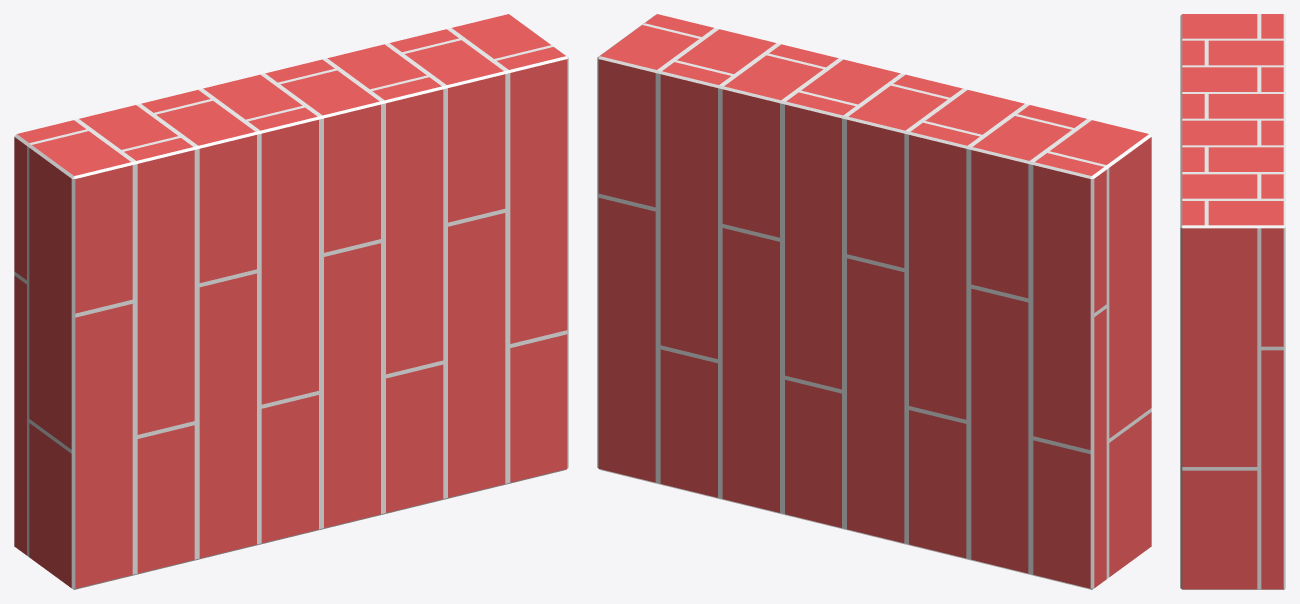
The model's file is Firewall.obj.
3 views of the same model, side by side, from view 1: azimuth 30°, elevation 25°; view 2: azimuth 150°, elevation 25°; view 3: azimuth 270°, elevation 25° (orthographic). The views are drawn at different scales.
Parts seen in each view (by area): view 1: Firewall; view 2: Firewall; view 3: Firewall.
Boxes of the visible parts, left/top/right/bottom form: Firewall: left=14, top=14, right=568, bottom=589; Firewall: left=597, top=14, right=1151, bottom=589; Firewall: left=1180, top=14, right=1285, bottom=589.
Size of the model in its own units: 1.01 by 0.8025 by 0.2105.
